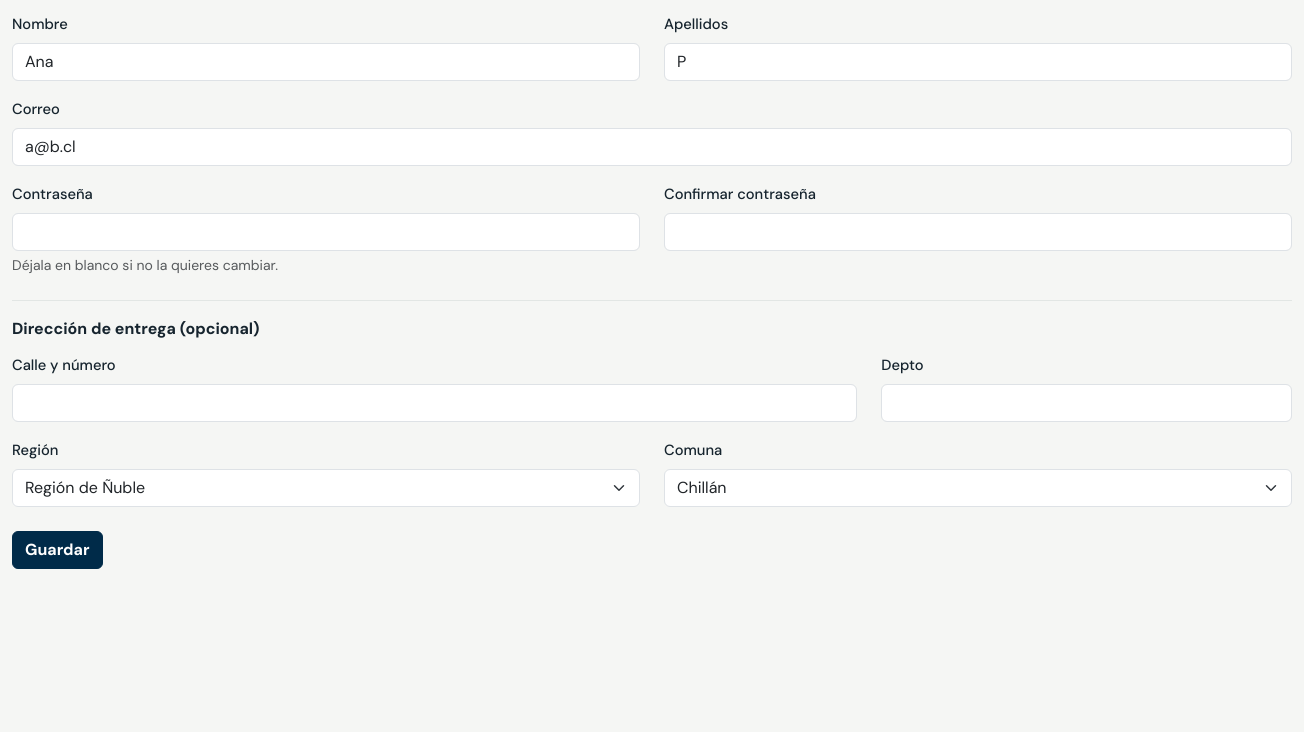
FormularioUsuario › cambiar la region actualiza la region y limpia la comuna
Select "Región de Atacama" in the dropdown labelled "Región": (326, 488) [12, 469, 640, 507]
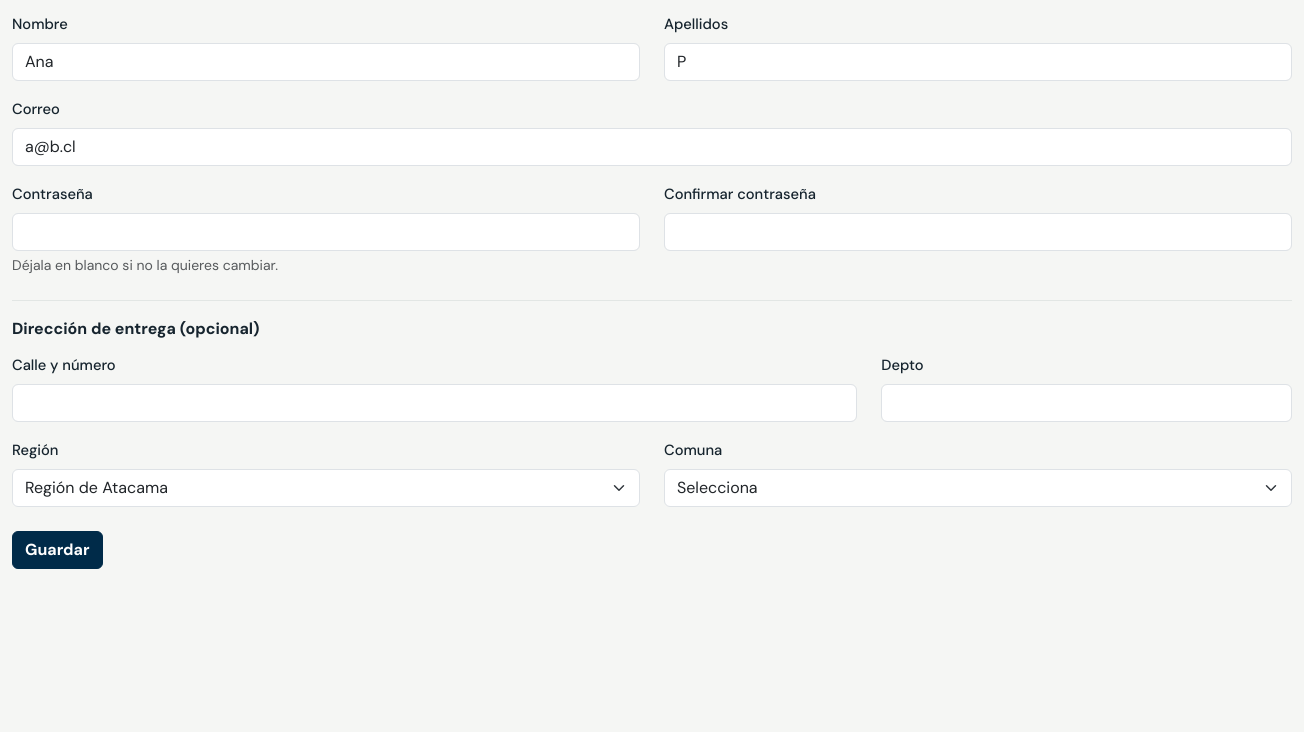
Check: the dropdown labelled "Comuna" shows "Selecciona", box [664, 469, 1292, 507]
